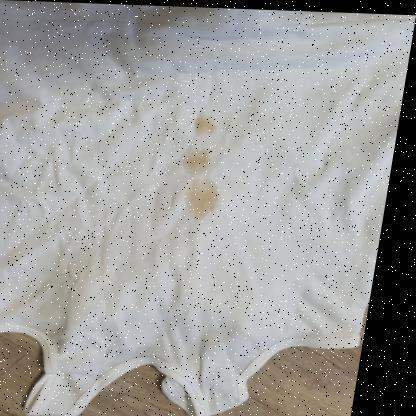coffee: (188, 183, 217, 218), (186, 150, 209, 173), (196, 117, 214, 137)
